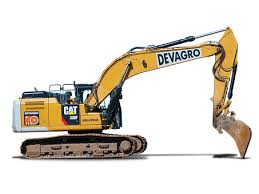excavator: (11, 25, 253, 164)
